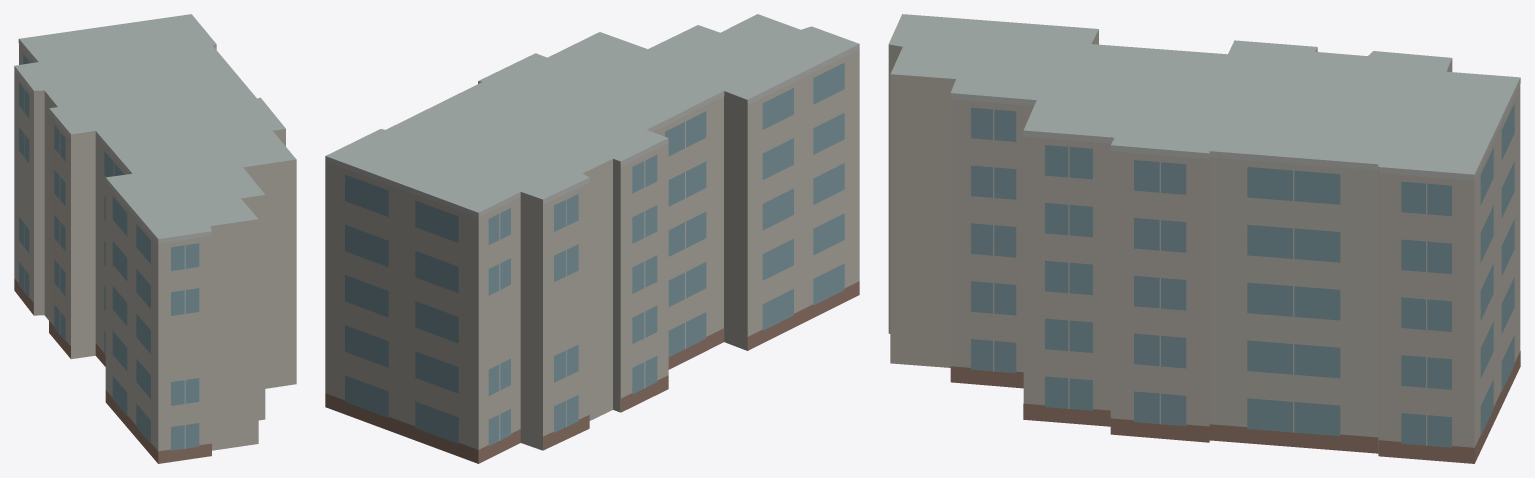
File: survey-upis-32607838.glb
3 renders of one model, left to right at view 1: azimuth 30°, elevation 25°; view 2: azimuth 150°, elevation 25°; view 3: azimuth 270°, elevation 25°, orthographic. The views are drawn at different scales.
Parts seen in each view (by area): view 1: survey-upis-32607838.tmp; view 2: survey-upis-32607838.tmp; view 3: survey-upis-32607838.tmp.
Part boxes in pixels (x1=…): survey-upis-32607838.tmp: x1=14, y1=14, x2=296, y2=463; survey-upis-32607838.tmp: x1=325, y1=14, x2=859, y2=463; survey-upis-32607838.tmp: x1=888, y1=14, x2=1520, y2=463.
Bounding box in the file's own units: 13.82 × 11.6 × 22.98.
